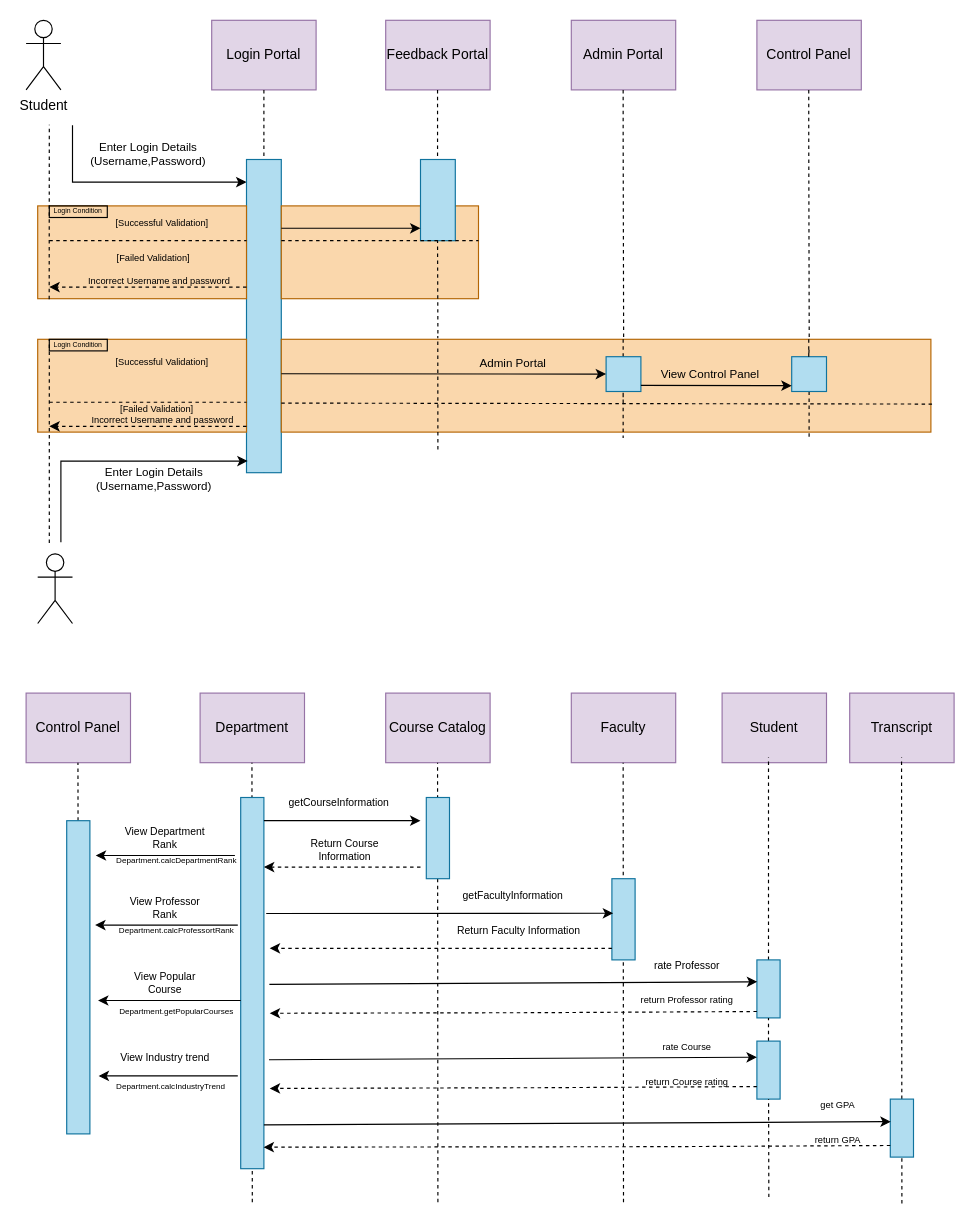
The diagram is 974 pixels wide and 1225 high, and some of its shapes have lost their labels. Here are the shapes that lost their labels. From the top down, the centre of each, then its label:
At (379,252): "View FeedBack Form".
At (54,588): "Admin".
